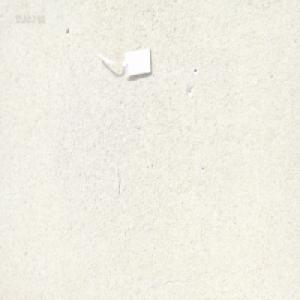LuggageTag: (100, 45, 153, 79)
